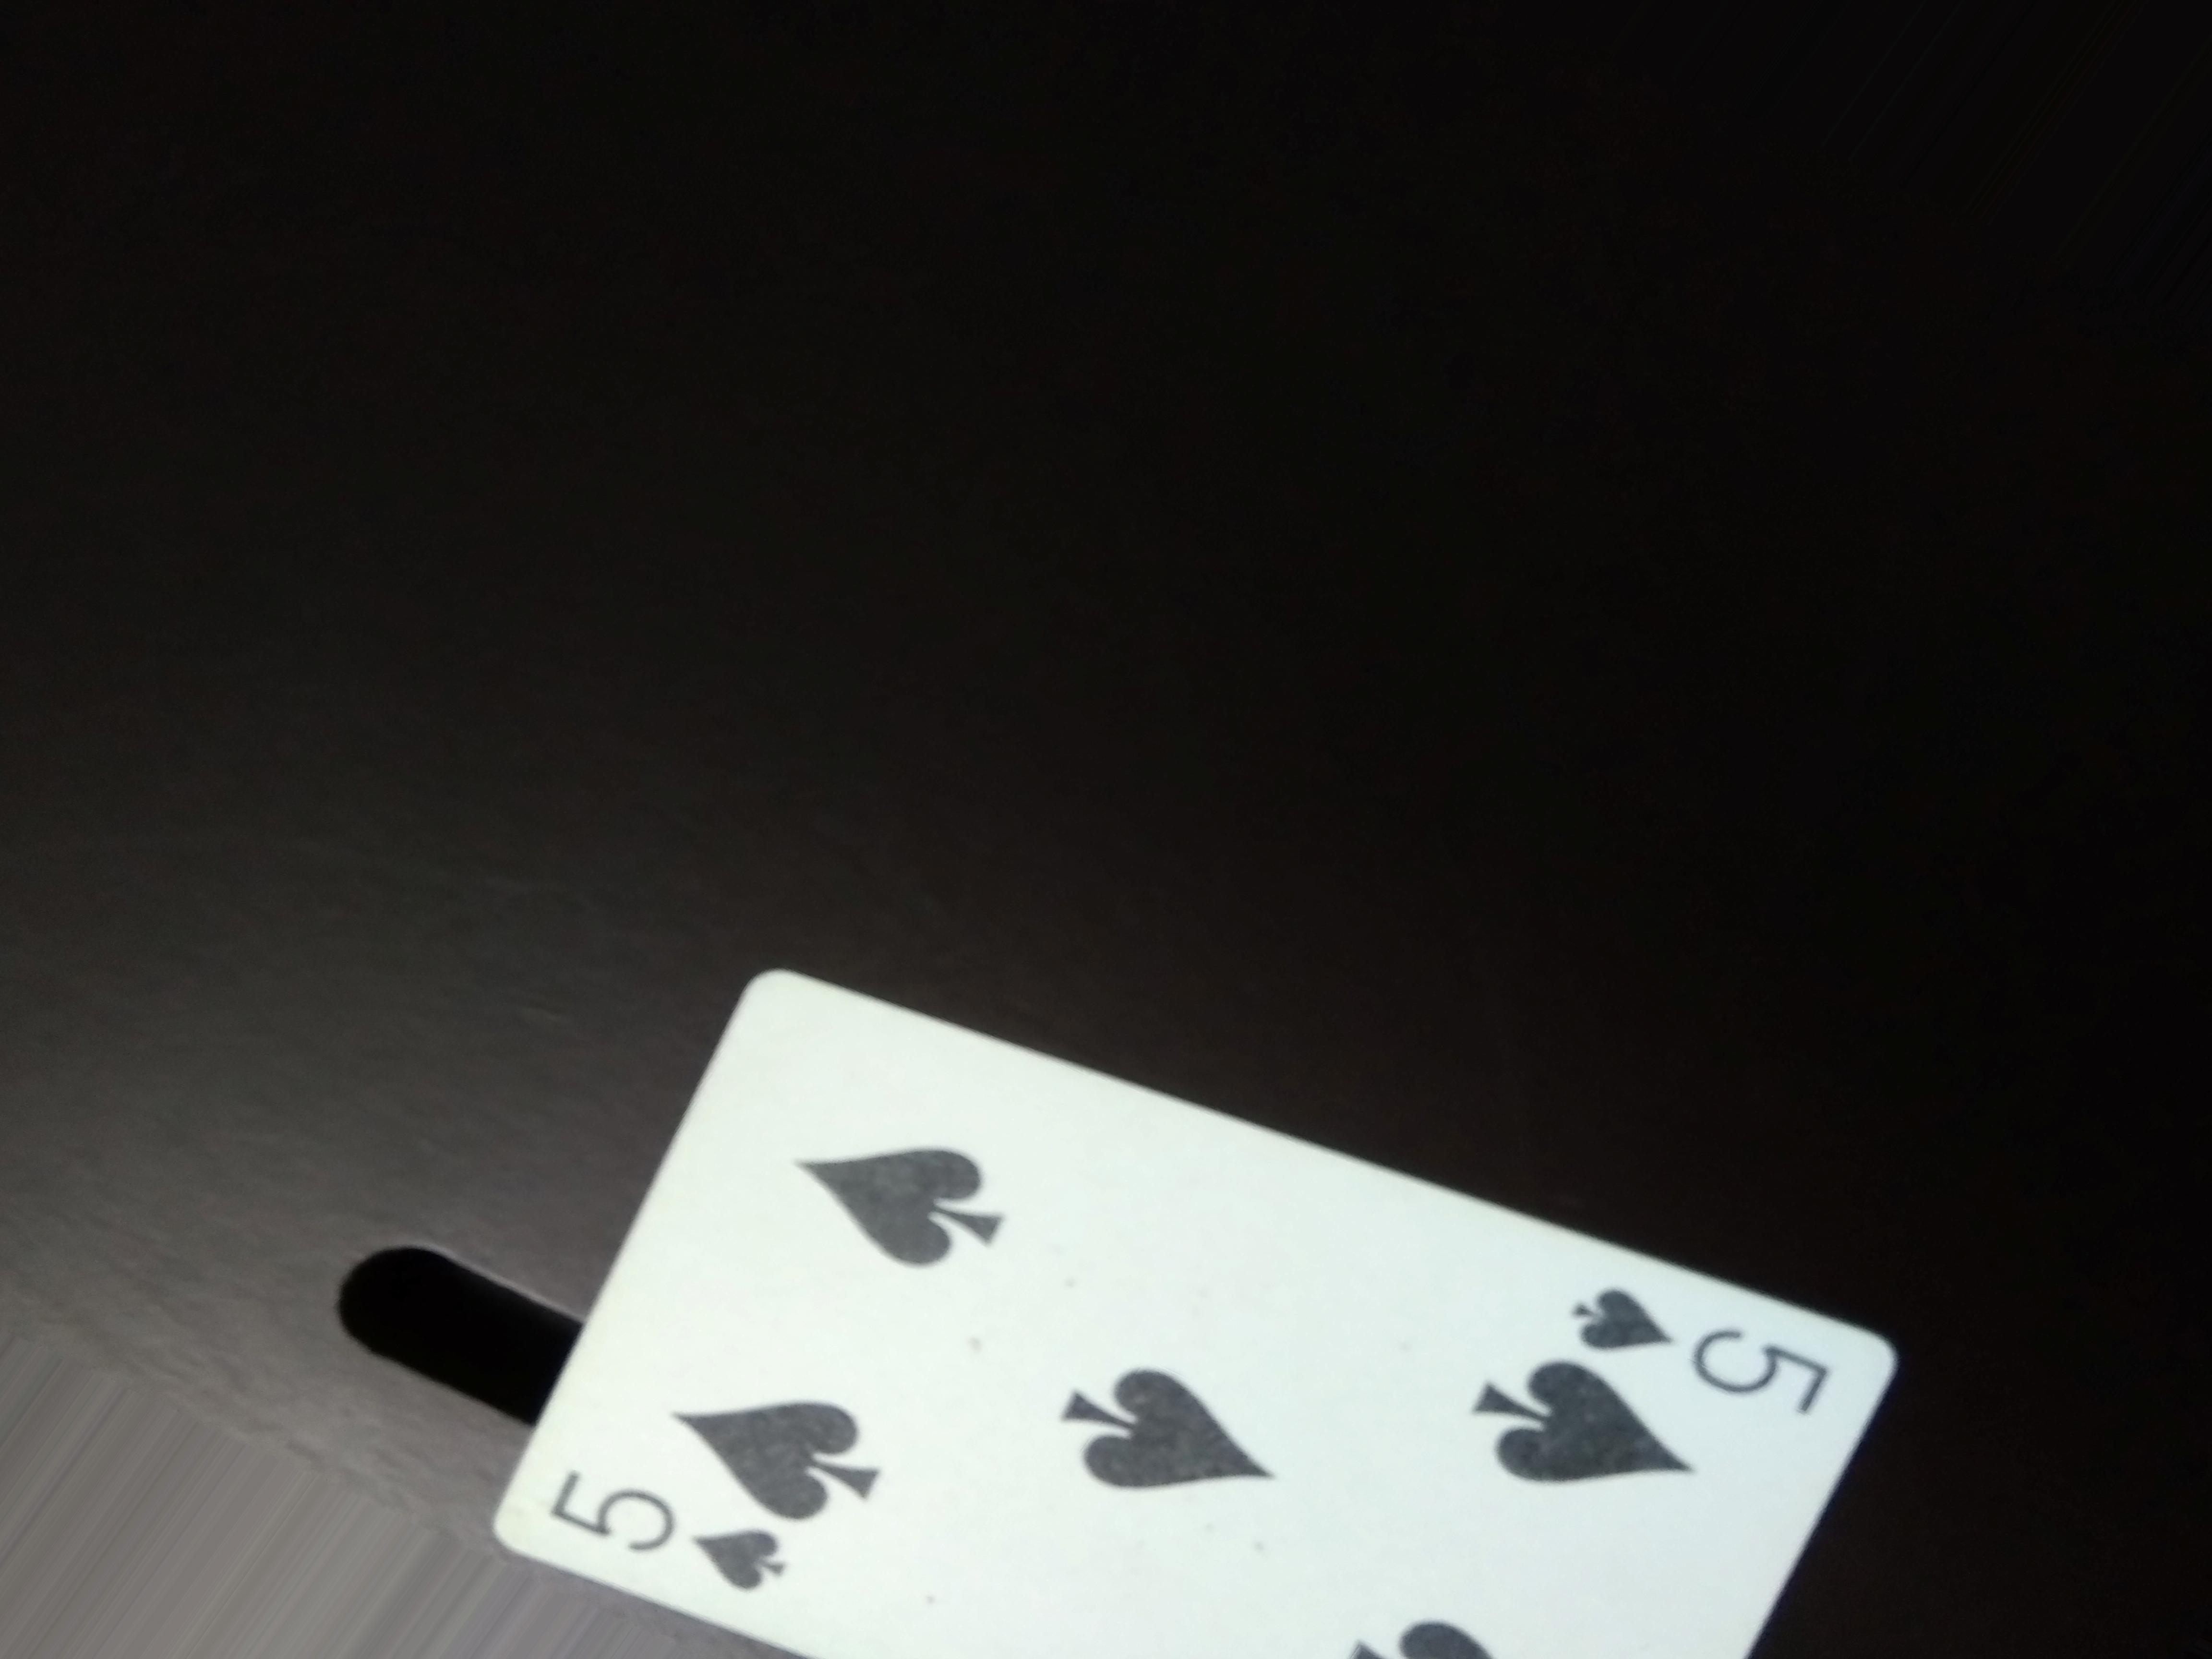5S: (1555, 1267, 1832, 1415)
